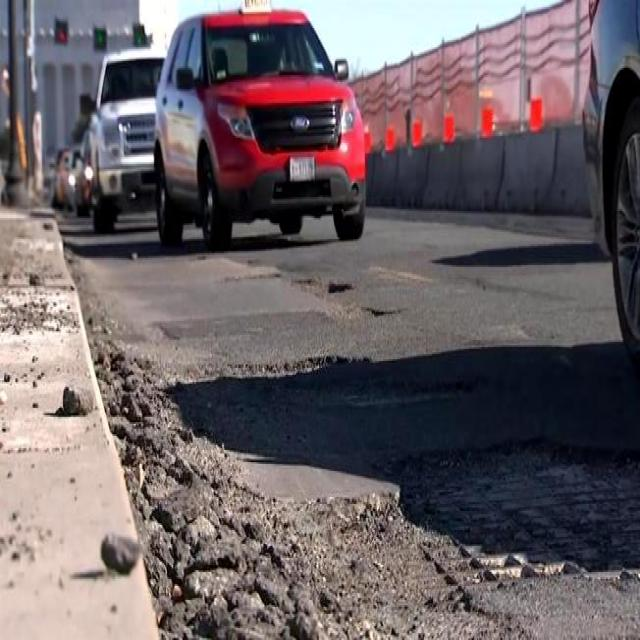pothole: (288, 253, 352, 310)
